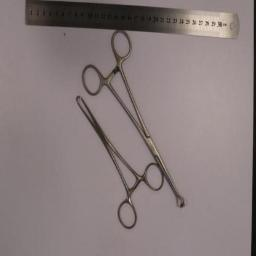Allis Tissue Forceps: (76, 96, 164, 230)
